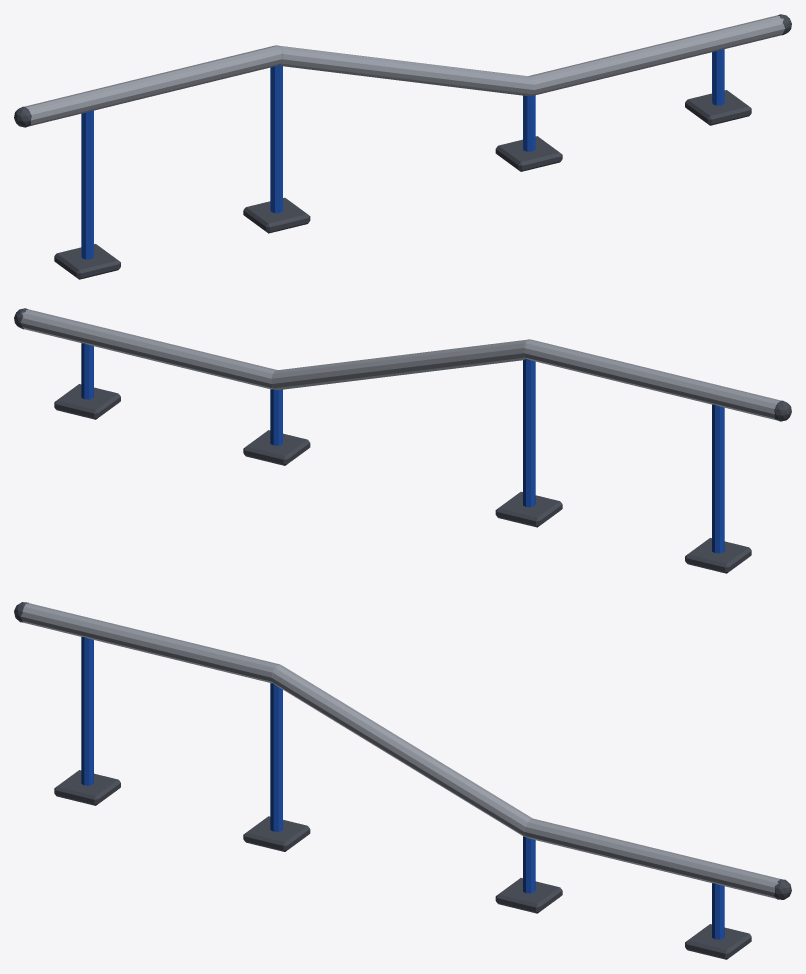
Rendered from rail_kink.glb.
The picture shows the model from 3 angles, top to bottom: view 1: azimuth 30°, elevation 25°; view 2: azimuth 150°, elevation 25°; view 3: azimuth 330°, elevation 25°; orthographic projection.
Visible parts, largest first — view 1: rail_kink; view 2: rail_kink; view 3: rail_kink.
Boxes of the visible parts, box(x1,y1,x2,y2) form: rail_kink: box(14, 14, 791, 279); rail_kink: box(14, 308, 791, 573); rail_kink: box(14, 602, 791, 959).
Size of the model in its own units: 24.56 by 5.29 by 1.4.
1 material, 1 textured.
